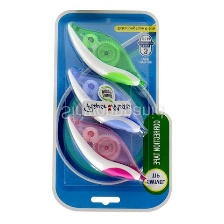book: (47, 8, 173, 214)
correction_fluid: (64, 65, 149, 138), (65, 112, 149, 184), (65, 19, 149, 91)
